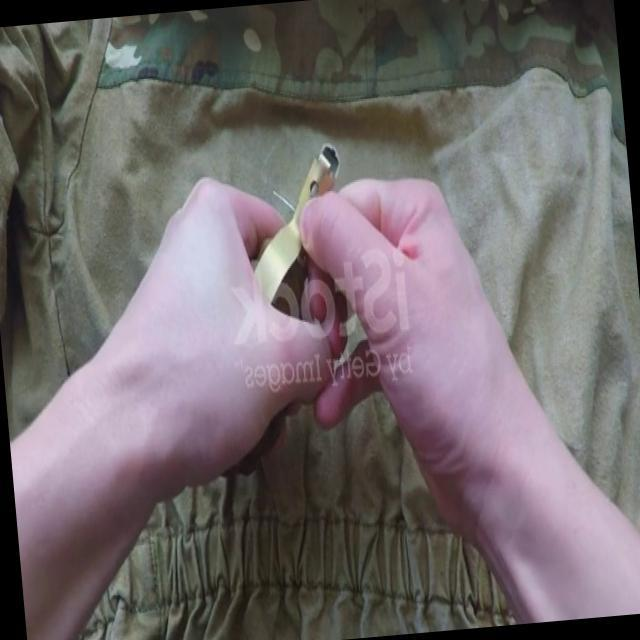grenade: (210, 146, 364, 464)
